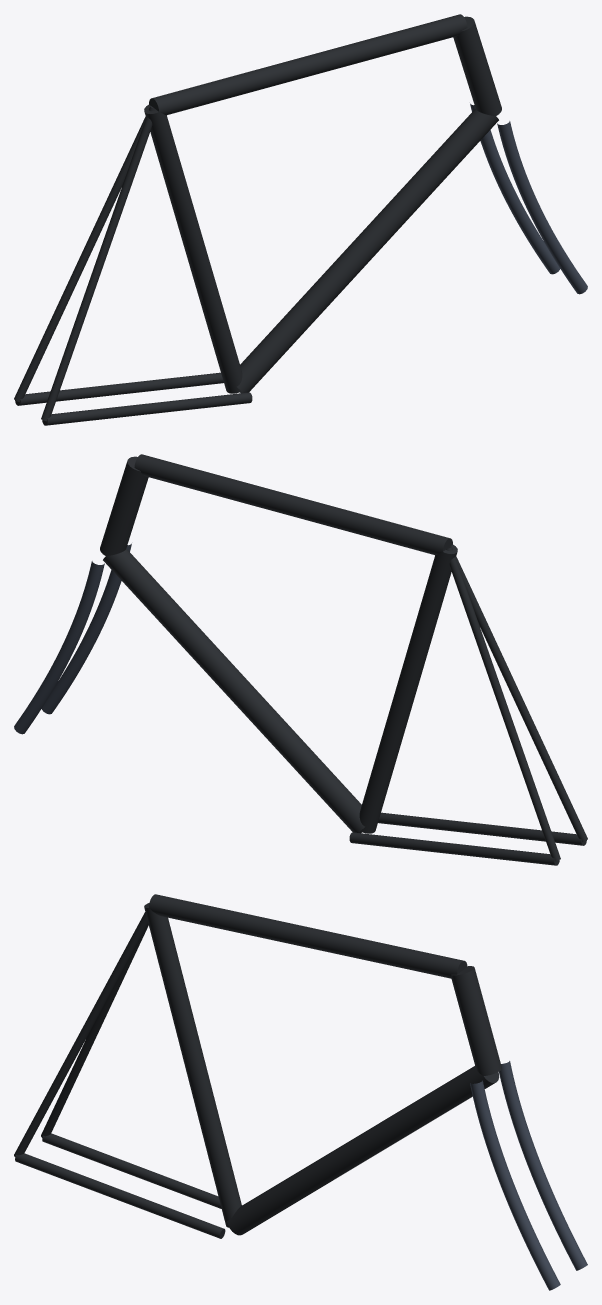
Rendered from 8bar-krzberg-v8-xl.glb.
The picture shows the model from 3 angles, top to bottom: view 1: azimuth 30°, elevation 25°; view 2: azimuth 150°, elevation 25°; view 3: azimuth 330°, elevation 25°; orthographic projection.
Parts seen in each view (by area): view 1: paint_down, paint_top, paint_seat, paint_seatstay_0.045, paint_seatstay_-0.045, fork_0.045, paint_chainstay_0.045, paint_head, paint_chainstay_-0.045, fork_-0.045; view 2: paint_down, paint_top, paint_seat, paint_seatstay_-0.045, paint_seatstay_0.045, fork_-0.045, paint_chainstay_-0.045, paint_head, paint_chainstay_0.045, fork_0.045; view 3: paint_down, paint_top, paint_seat, fork_0.045, fork_-0.045, paint_head, paint_chainstay_0.045, paint_seatstay_0.045, paint_chainstay_-0.045, paint_seatstay_-0.045.
Boxes of the visible parts, x1,y1,x2,y2 form: paint_down: (237, 109, 498, 393); paint_top: (149, 14, 467, 115); paint_seat: (144, 104, 242, 393); paint_seatstay_0.045: (41, 107, 155, 421); paint_seatstay_-0.045: (14, 106, 153, 402); fork_0.045: (497, 121, 587, 294); paint_chainstay_0.045: (42, 392, 252, 425); paint_head: (453, 16, 501, 115); paint_chainstay_-0.045: (15, 372, 223, 405); fork_-0.045: (470, 103, 560, 274); paint_down: (103, 549, 364, 833); paint_top: (134, 454, 452, 555); paint_seat: (359, 544, 457, 833); paint_seatstay_-0.045: (446, 547, 560, 861); paint_seatstay_0.045: (448, 546, 587, 842); fork_-0.045: (14, 561, 104, 734); paint_chainstay_-0.045: (349, 832, 559, 865); paint_head: (100, 456, 148, 555); paint_chainstay_0.045: (378, 812, 586, 845); fork_0.045: (41, 543, 131, 714); paint_down: (227, 1066, 499, 1235); paint_top: (149, 894, 467, 978); paint_seat: (144, 903, 241, 1227); fork_0.045: (470, 1080, 560, 1290); fork_-0.045: (499, 1061, 587, 1270); paint_head: (451, 966, 501, 1075); paint_chainstay_0.045: (15, 1153, 225, 1238); paint_seatstay_0.045: (14, 912, 148, 1156); paint_chainstay_-0.045: (42, 1133, 221, 1208); paint_seatstay_-0.045: (41, 924, 148, 1137).
Bounding box in the file's own units: 1.04 × 0.5973 × 0.112.
